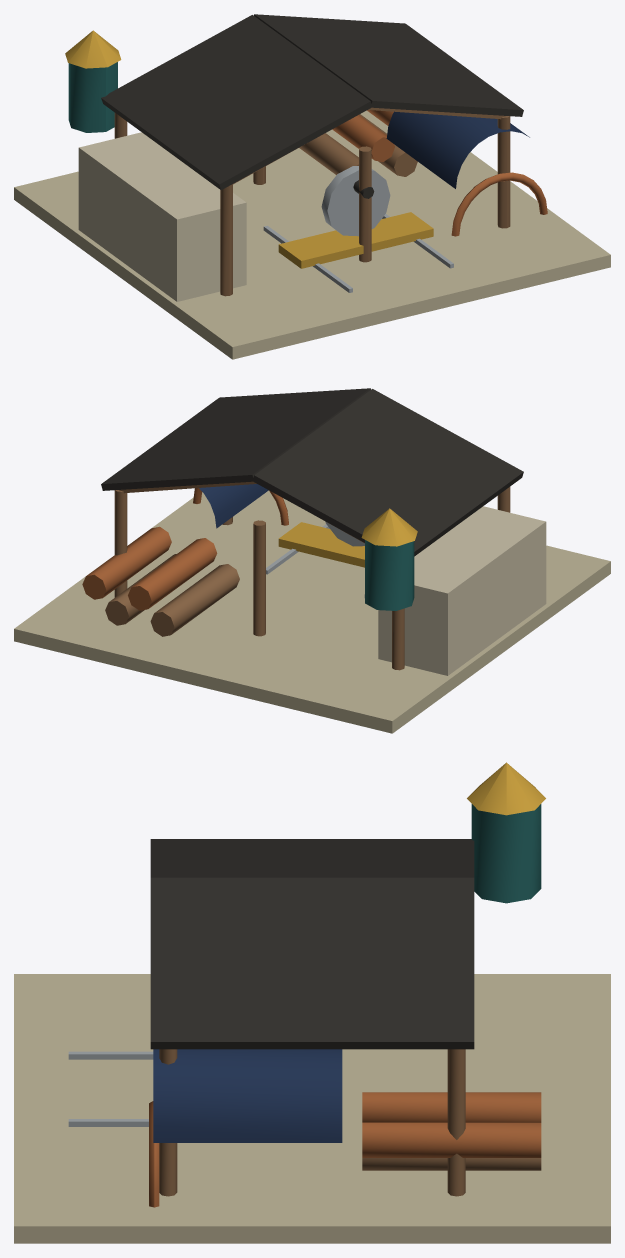
Rendered from b10-timbercoast-works-v2-lod0.glb.
3 views of the same model, one above another, from view 1: azimuth 30°, elevation 25°; view 2: azimuth 150°, elevation 25°; view 3: azimuth 270°, elevation 25° (orthographic). The views are drawn at different scales.
Visible parts, largest first — view 1: MESH_B10_TIMBERCOAST_WORKS; view 2: MESH_B10_TIMBERCOAST_WORKS; view 3: MESH_B10_TIMBERCOAST_WORKS.
Boxes of the visible parts, left/top/right/bottom form: MESH_B10_TIMBERCOAST_WORKS: left=14, top=14, right=610, bottom=359; MESH_B10_TIMBERCOAST_WORKS: left=14, top=388, right=610, bottom=733; MESH_B10_TIMBERCOAST_WORKS: left=14, top=762, right=610, bottom=1243.
Size of the model in its own units: 12 by 5.68 by 12.
